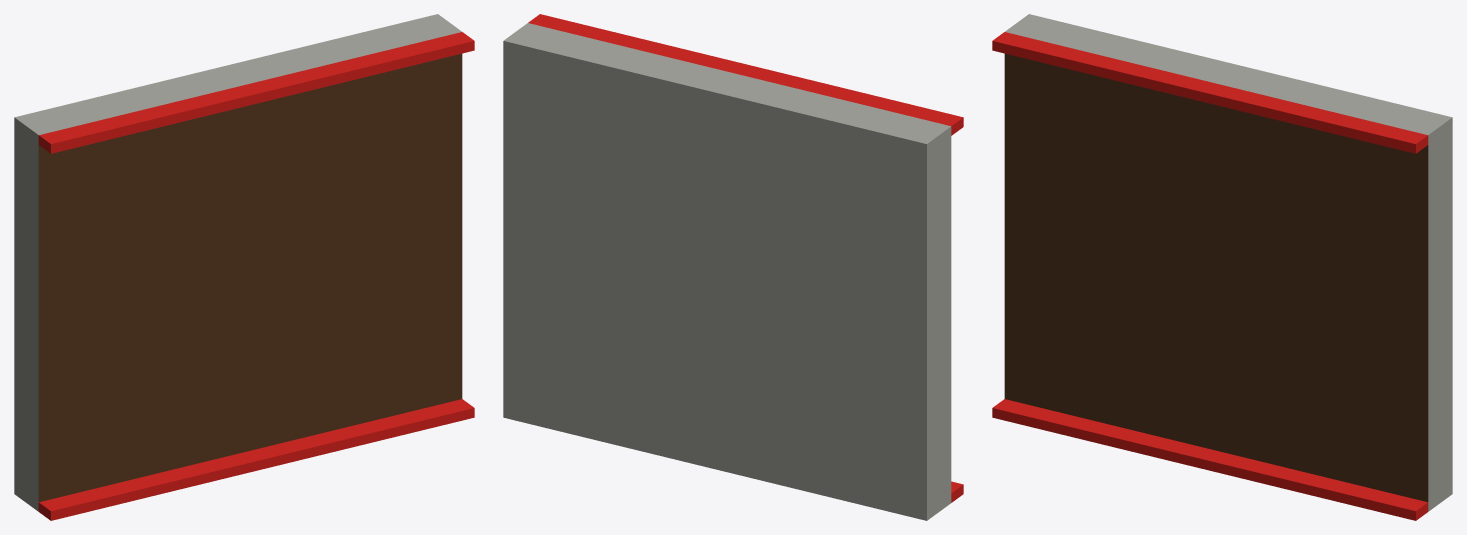
The model's file is ramp_flat.glb.
3 renders of one model, left to right at view 1: azimuth 30°, elevation 25°; view 2: azimuth 150°, elevation 25°; view 3: azimuth 330°, elevation 25°, orthographic.
Parts seen in each view (by area): view 1: bridge_01_ramp_flat; view 2: bridge_01_ramp_flat; view 3: bridge_01_ramp_flat.
Part boxes in pixels (bbox=[...]): bridge_01_ramp_flat: bbox=[14, 14, 474, 520]; bridge_01_ramp_flat: bbox=[503, 14, 963, 520]; bridge_01_ramp_flat: bbox=[992, 14, 1452, 520].
Bounding box in the file's own units: 16 × 13.6 × 2.4.
